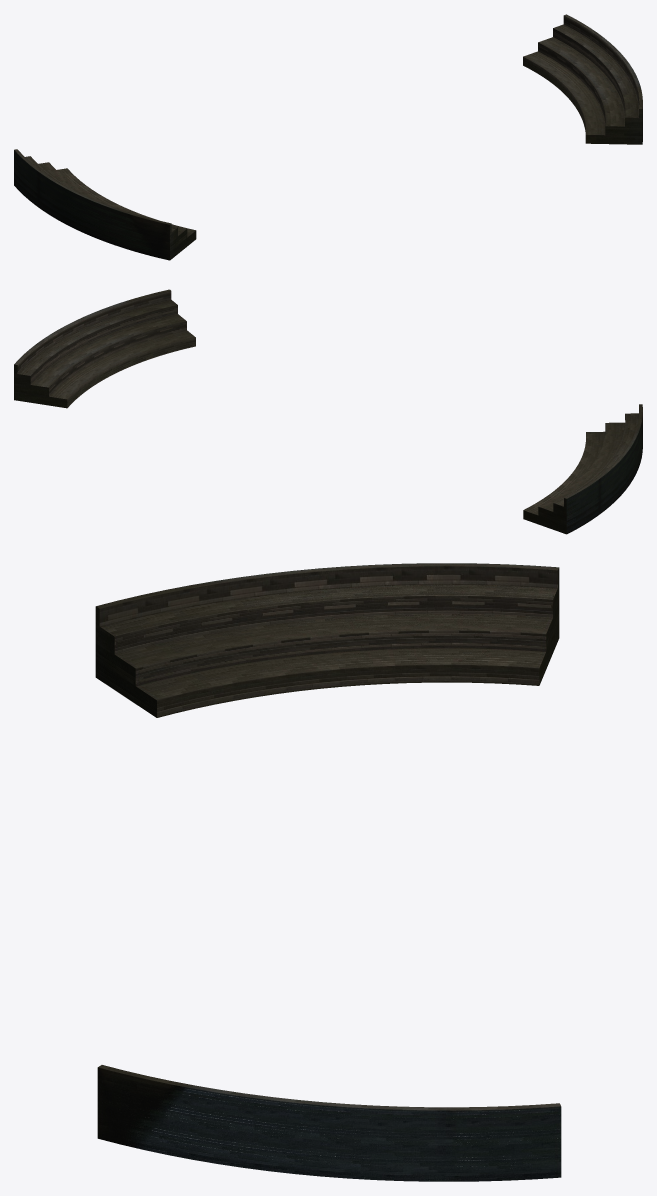
File: Arena_Stairs.glb
The picture shows the model from 3 angles, top to bottom: view 1: azimuth 30°, elevation 25°; view 2: azimuth 150°, elevation 25°; view 3: azimuth 270°, elevation 25°; orthographic projection. The views are drawn at different scales.
Visible parts, largest first — view 1: 7--Stairs-R, 7--Stairs-L; view 2: 7--Stairs-R, 7--Stairs-L; view 3: 7--Stairs-L, 7--Stairs-R.
Boxes of the visible parts, x1,y1,x2,y2 form: 7--Stairs-R: (523,14,642,144); 7--Stairs-L: (14,149,196,260); 7--Stairs-R: (14,289,195,408); 7--Stairs-L: (523,404,642,534); 7--Stairs-L: (95,563,559,717); 7--Stairs-R: (97,1065,561,1181).
Bounding box in the file's own units: 32.99 × 2 × 11.86.
1 material, 1 textured.
